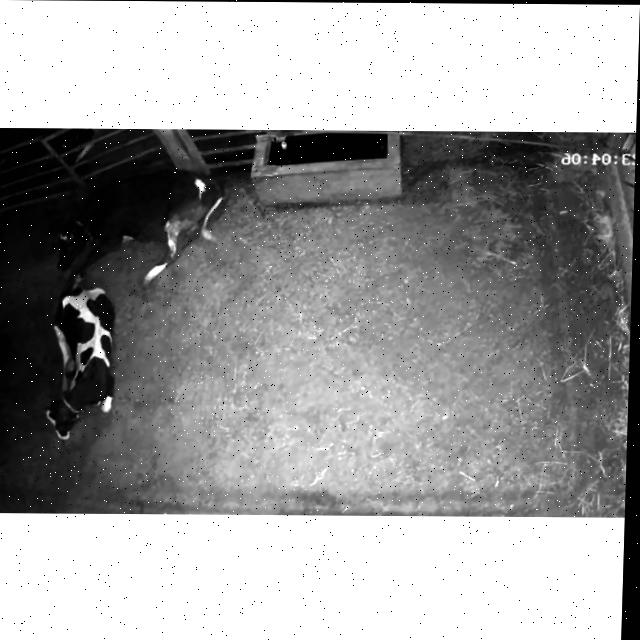lay: (37, 163, 232, 281), (33, 273, 125, 442)
